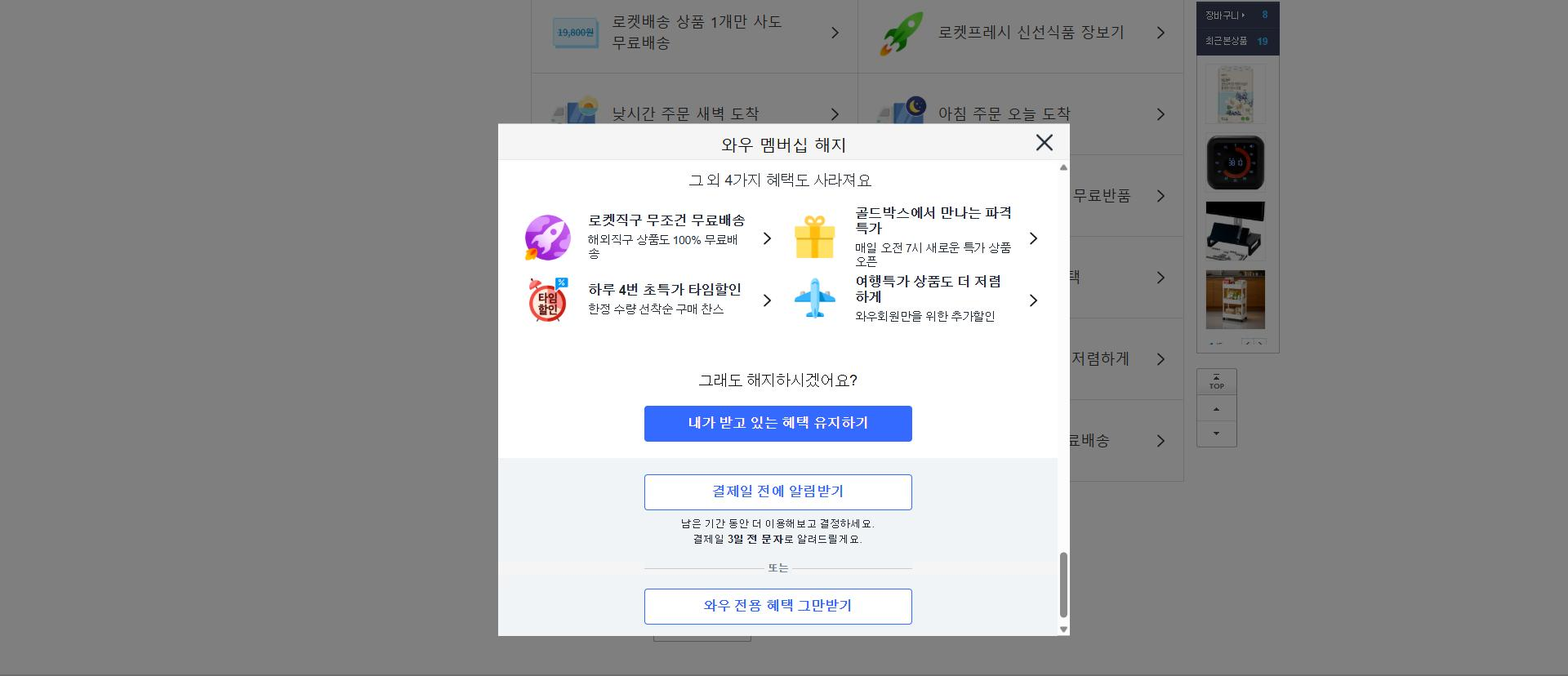button: (1199, 2, 1277, 357), (536, 0, 857, 77), (863, 0, 1183, 71), (788, 270, 1047, 346), (789, 196, 1047, 271), (518, 203, 775, 267), (518, 271, 779, 334), (646, 399, 912, 444), (642, 473, 912, 511), (643, 588, 912, 626), (1199, 365, 1240, 449), (1147, 254, 1180, 310), (1147, 343, 1179, 398), (1149, 419, 1178, 477), (1145, 96, 1174, 150), (1148, 179, 1174, 223), (1029, 126, 1061, 161)
popup: (501, 123, 1071, 637)
